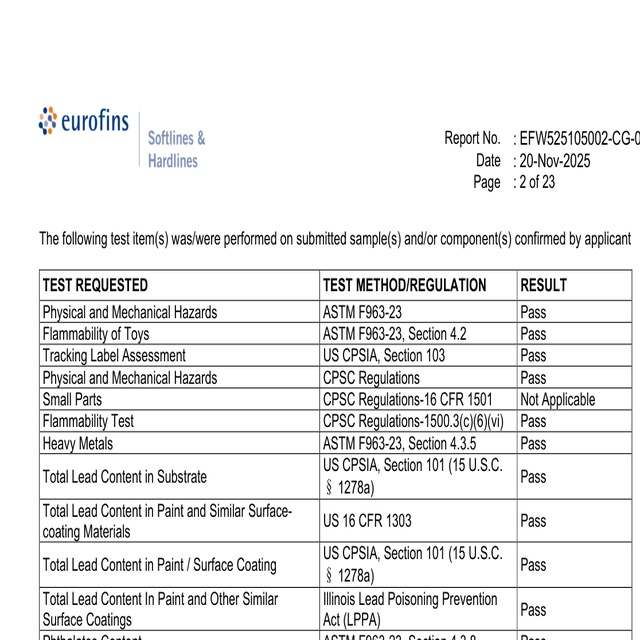eurofins: (36, 101, 133, 139)
